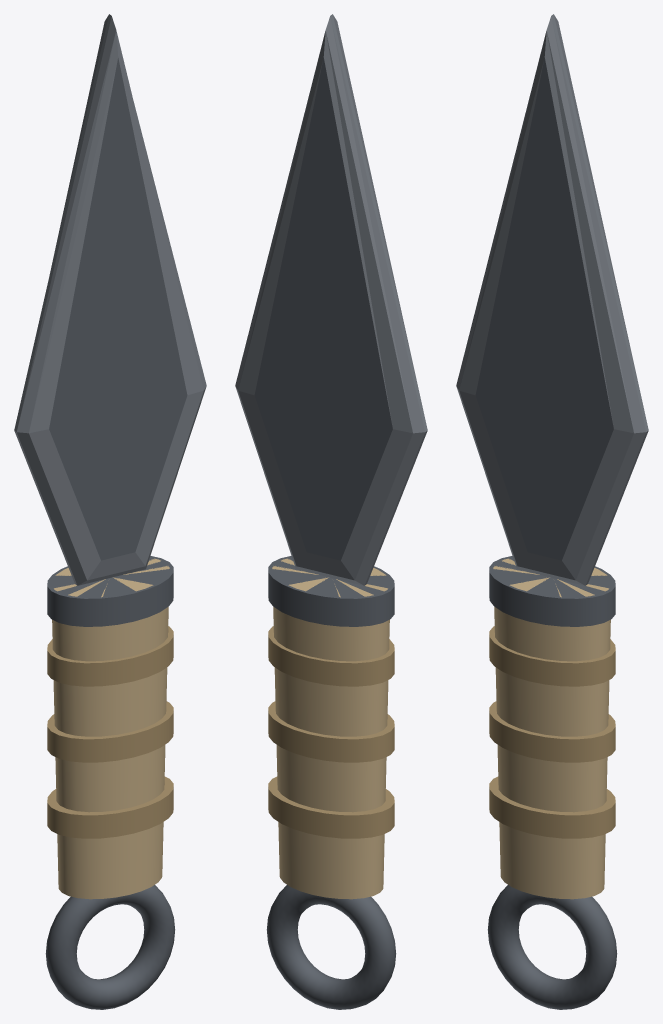
Rendered from 03_Common_Training_Kunai.glb.
The picture shows the model from 3 angles, left to right: view 1: azimuth 30°, elevation 25°; view 2: azimuth 150°, elevation 25°; view 3: azimuth 330°, elevation 25°; orthographic projection.
Parts seen in each view (by area): view 1: blade_0, handle_1, pommel_ring_6, ferrule_5, handle_band_4, handle_band_3, handle_band_2; view 2: blade_0, handle_1, pommel_ring_6, ferrule_5, handle_band_4, handle_band_3, handle_band_2; view 3: blade_0, handle_1, pommel_ring_6, ferrule_5, handle_band_4, handle_band_3, handle_band_2.
Part boxes in pixels (<box>): blade_0: <box>14,14,206,585</box>; handle_1: <box>52,558,169,899</box>; pommel_ring_6: <box>45,885,175,1009</box>; ferrule_5: <box>47,556,173,626</box>; handle_band_4: <box>47,776,173,838</box>; handle_band_3: <box>47,701,173,762</box>; handle_band_2: <box>47,626,173,686</box>; blade_0: <box>235,14,427,585</box>; handle_1: <box>272,558,389,899</box>; pommel_ring_6: <box>266,885,396,1009</box>; ferrule_5: <box>268,556,394,626</box>; handle_band_4: <box>268,776,394,838</box>; handle_band_3: <box>268,701,394,762</box>; handle_band_2: <box>268,626,394,686</box>; blade_0: <box>456,14,648,585</box>; handle_1: <box>493,558,610,899</box>; pommel_ring_6: <box>487,885,617,1009</box>; ferrule_5: <box>489,556,615,626</box>; handle_band_4: <box>489,776,615,838</box>; handle_band_3: <box>489,701,615,762</box>; handle_band_2: <box>489,626,615,686</box>.
Bounding box in the file's own units: 0.085 × 0.424 × 0.0359.
6 materials, 6 textured.
